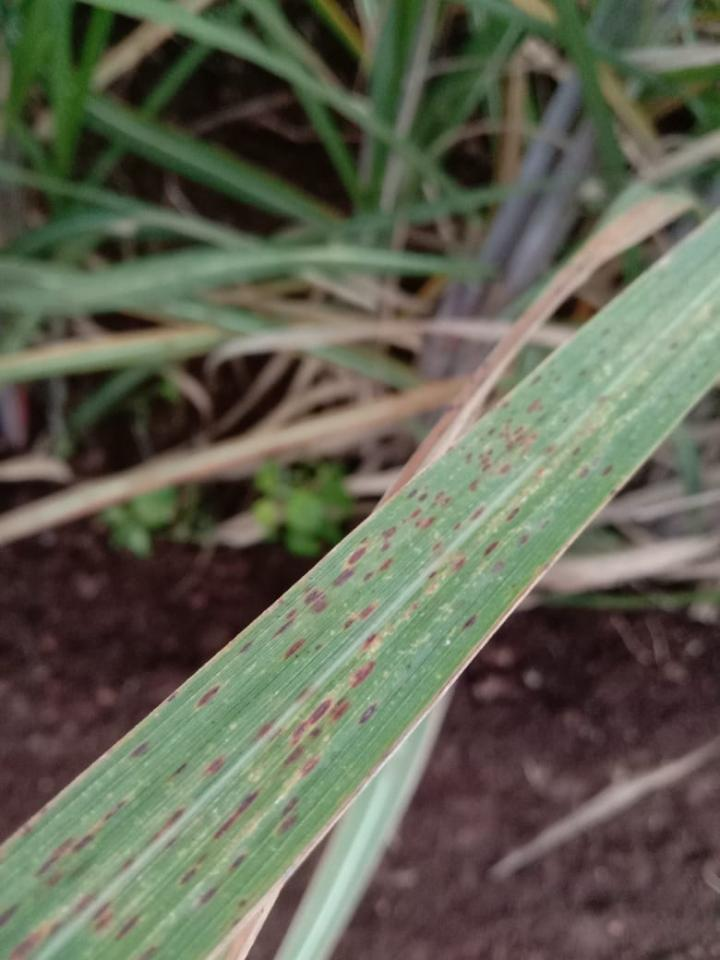Rust: (0, 319, 616, 934), (7, 805, 191, 959), (278, 629, 386, 777), (426, 506, 530, 582), (88, 898, 162, 959), (195, 849, 252, 909), (209, 786, 263, 845), (178, 849, 215, 889), (276, 794, 304, 837), (204, 753, 229, 777), (457, 612, 481, 635), (166, 757, 189, 779), (574, 464, 595, 483), (598, 463, 615, 481)
